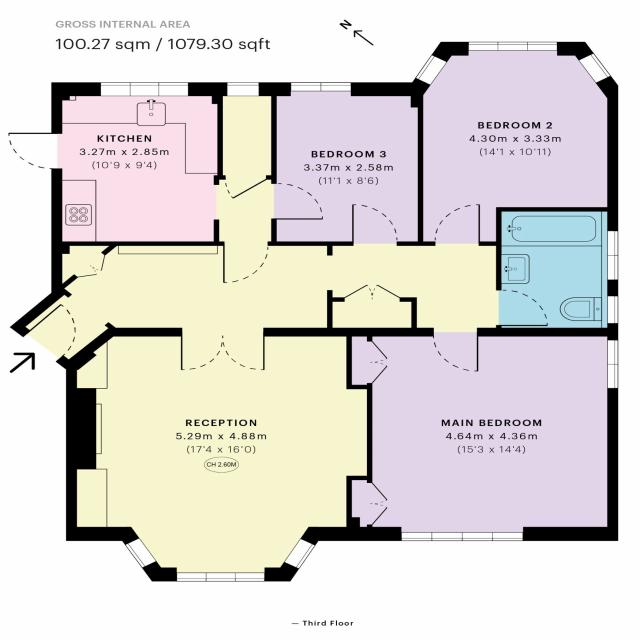DOOR: (20, 302, 79, 365), (430, 326, 480, 373), (6, 131, 63, 171), (221, 240, 271, 285), (350, 203, 401, 247), (270, 181, 326, 221), (494, 288, 551, 327), (433, 202, 482, 246), (223, 174, 270, 201)
DOUBLE DOOR: (180, 327, 266, 372)
ROOM: (65, 328, 373, 583), (7, 82, 325, 284), (346, 327, 619, 541), (411, 42, 619, 246), (271, 82, 424, 246)
WINDOW: (577, 52, 612, 84), (124, 537, 158, 569), (415, 54, 448, 86), (283, 538, 316, 570), (227, 82, 259, 97), (158, 82, 189, 97), (100, 82, 131, 96), (129, 82, 160, 96), (606, 363, 619, 389), (607, 296, 619, 324), (606, 255, 619, 280), (290, 82, 322, 92), (607, 230, 619, 256), (320, 82, 351, 92), (468, 41, 499, 51), (497, 41, 528, 51), (527, 41, 558, 51), (176, 572, 207, 582), (205, 572, 236, 582), (234, 572, 265, 582), (607, 340, 619, 365), (401, 532, 433, 541), (431, 532, 463, 541), (462, 532, 494, 541), (492, 532, 523, 541)
